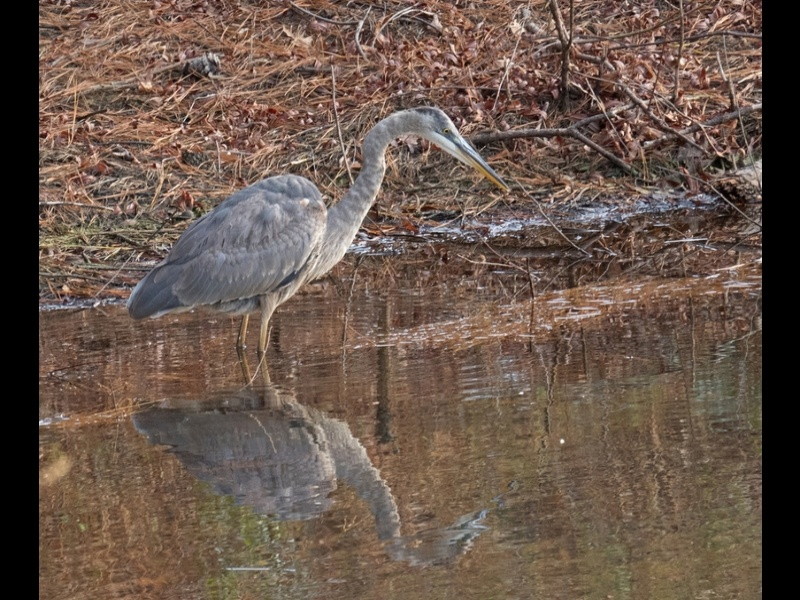heron: (127, 103, 508, 413)
